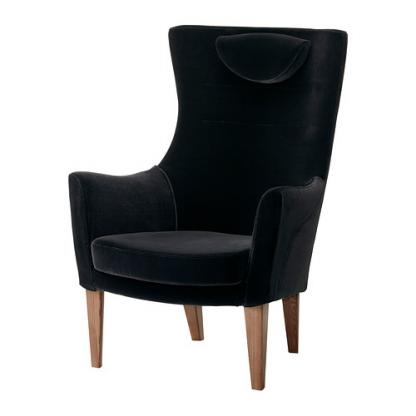Chair: (62, 22, 349, 391)
